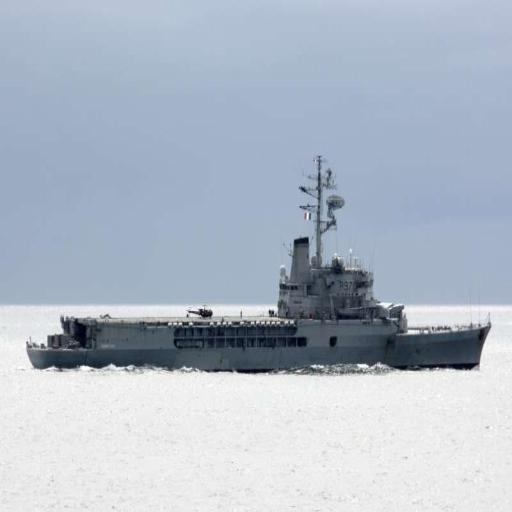Portanaves: (25, 150, 497, 375)
